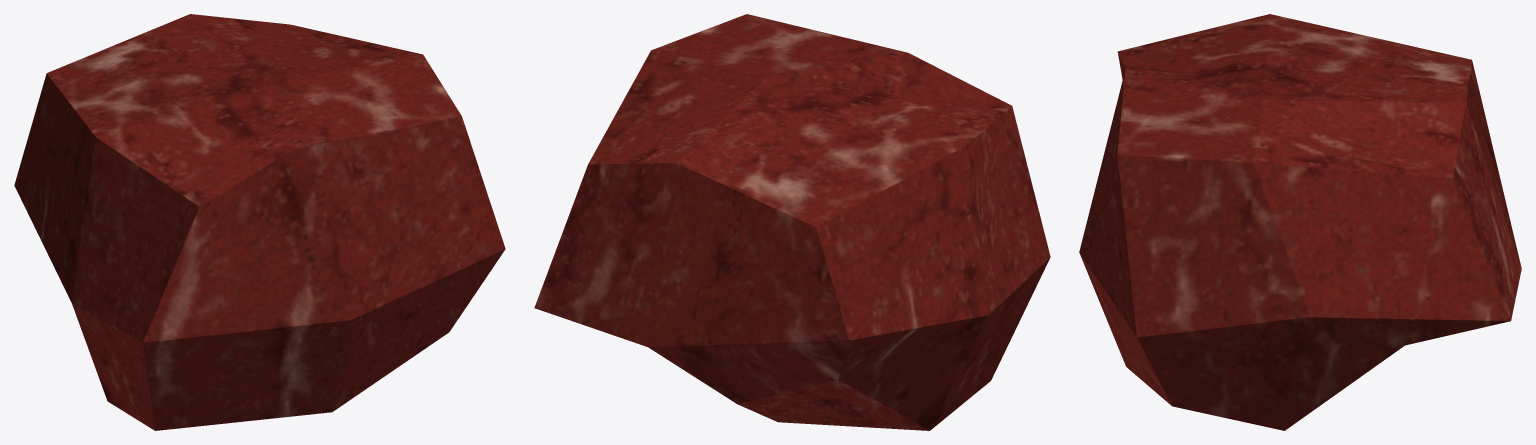
File: fLESH.fbx
The picture shows the model from 3 angles, left to right: view 1: azimuth 30°, elevation 25°; view 2: azimuth 150°, elevation 25°; view 3: azimuth 270°, elevation 25°; orthographic projection. The views are drawn at different scales.
Parts seen in each view (by area): view 1: FLESH?; view 2: FLESH?; view 3: FLESH?.
Boxes of the visible parts, x1,y1,x2,y2 form: FLESH?: (14, 14, 505, 430); FLESH?: (534, 14, 1050, 430); FLESH?: (1079, 14, 1521, 430).
Size of the model in its own units: 0.1516 by 0.1193 by 0.1509.
Materials: 1 (1 with a texture image).
